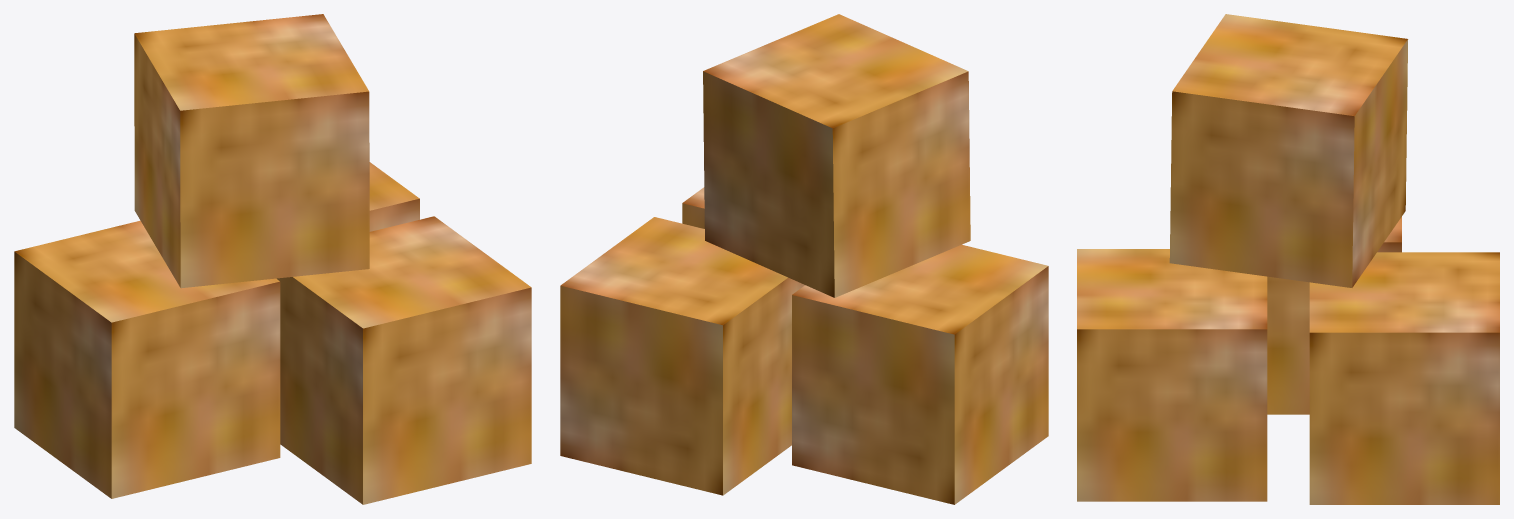
Rendered from Zarame.obj.
The picture shows the model from 3 angles, left to right: view 1: azimuth 30°, elevation 25°; view 2: azimuth 150°, elevation 25°; view 3: azimuth 270°, elevation 25°; orthographic projection. The views are drawn at different scales.
Parts seen in each view (by area): view 1: Zarame:group8 Zarame:pasted__pCube2 Zarame:polySurface1, Zarame:group9 Zarame:pasted__group8 Zarame:pasted__pasted__pCube, Zarame:group7 Zarame:pasted__pCube2 Zarame:polySurface1, Zarame:group10 Zarame:pasted__pCube2 Zarame:polySurface1; view 2: Zarame:group7 Zarame:pasted__pCube2 Zarame:polySurface1, Zarame:group8 Zarame:pasted__pCube2 Zarame:polySurface1, Zarame:group10 Zarame:pasted__pCube2 Zarame:polySurface1, Zarame:group9 Zarame:pasted__group8 Zarame:pasted__pasted__pCube; view 3: Zarame:group7 Zarame:pasted__pCube2 Zarame:polySurface1, Zarame:group10 Zarame:pasted__pCube2 Zarame:polySurface1, Zarame:group9 Zarame:pasted__group8 Zarame:pasted__pasted__pCube, Zarame:group8 Zarame:pasted__pCube2 Zarame:polySurface1.
Part boxes in pixels (left/top/right/bottom): Zarame:group8 Zarame:pasted__pCube2 Zarame:polySurface1: left=14, top=220, right=280, bottom=498; Zarame:group9 Zarame:pasted__group8 Zarame:pasted__pasted__pCube: left=277, top=216, right=531, bottom=504; Zarame:group7 Zarame:pasted__pCube2 Zarame:polySurface1: left=134, top=14, right=369, bottom=288; Zarame:group10 Zarame:pasted__pCube2 Zarame:polySurface1: left=369, top=162, right=419, bottom=231; Zarame:group7 Zarame:pasted__pCube2 Zarame:polySurface1: left=703, top=14, right=970, bottom=297; Zarame:group8 Zarame:pasted__pCube2 Zarame:polySurface1: left=792, top=244, right=1048, bottom=504; Zarame:group10 Zarame:pasted__pCube2 Zarame:polySurface1: left=560, top=217, right=804, bottom=495; Zarame:group9 Zarame:pasted__group8 Zarame:pasted__pasted__pCube: left=682, top=187, right=704, bottom=228; Zarame:group7 Zarame:pasted__pCube2 Zarame:polySurface1: left=1169, top=14, right=1408, bottom=287; Zarame:group10 Zarame:pasted__pCube2 Zarame:polySurface1: left=1309, top=252, right=1499, bottom=504; Zarame:group9 Zarame:pasted__group8 Zarame:pasted__pasted__pCube: left=1077, top=249, right=1267, bottom=501; Zarame:group8 Zarame:pasted__pCube2 Zarame:polySurface1: left=1267, top=217, right=1401, bottom=414.
Size of the model in its own units: 2.13 by 2.07 by 2.22.
